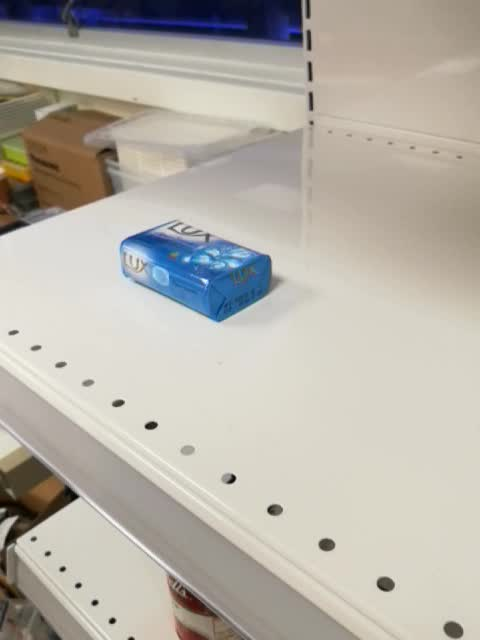soap: (119, 219, 272, 324)
